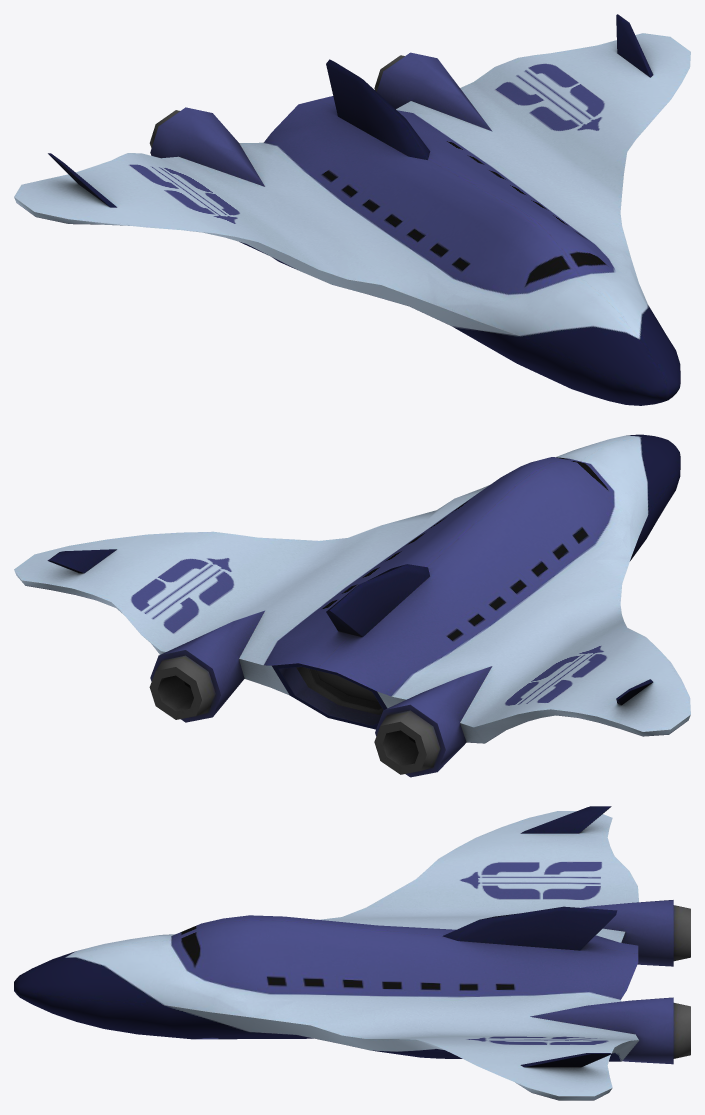
Rendered from SD_ship.obj.
3 renders of one model, top to bottom at view 1: azimuth 30°, elevation 25°; view 2: azimuth 150°, elevation 25°; view 3: azimuth 270°, elevation 25°, orthographic. The views are drawn at different scales.
Visible parts, largest first — view 1: polymsh1; view 2: polymsh1; view 3: polymsh1.
Boxes of the visible parts, x1,y1,x2,y2 form: polymsh1: [14, 14, 690, 405]; polymsh1: [14, 434, 690, 777]; polymsh1: [14, 806, 690, 1100].
Size of the model in its own units: 108 by 22.05 by 108.
